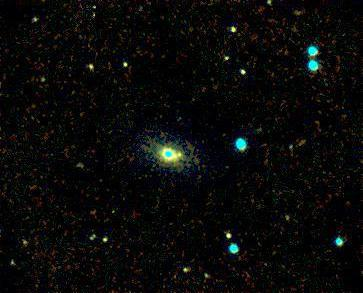star: (164, 138, 194, 168)
